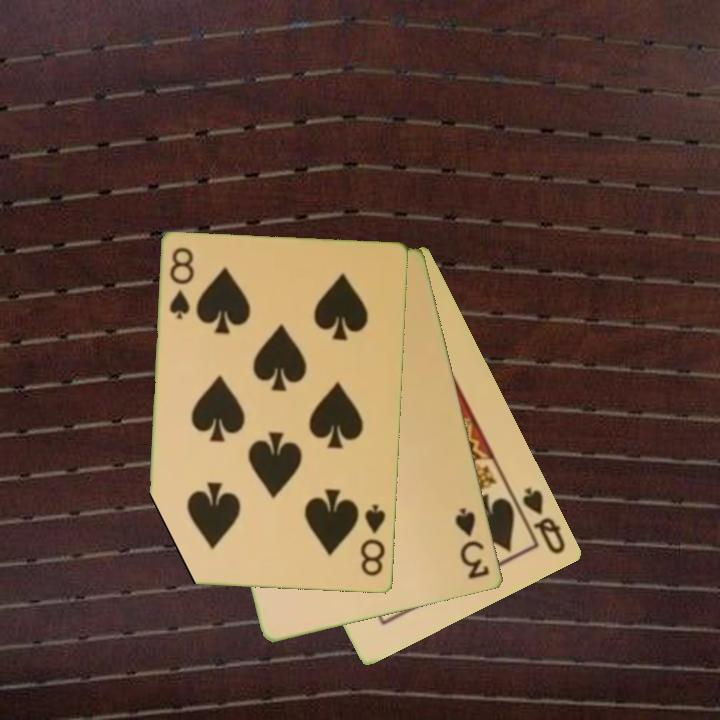3s: (452, 504, 493, 583)
8s: (357, 501, 389, 580), (166, 244, 197, 323)
Qs: (519, 483, 569, 558)
